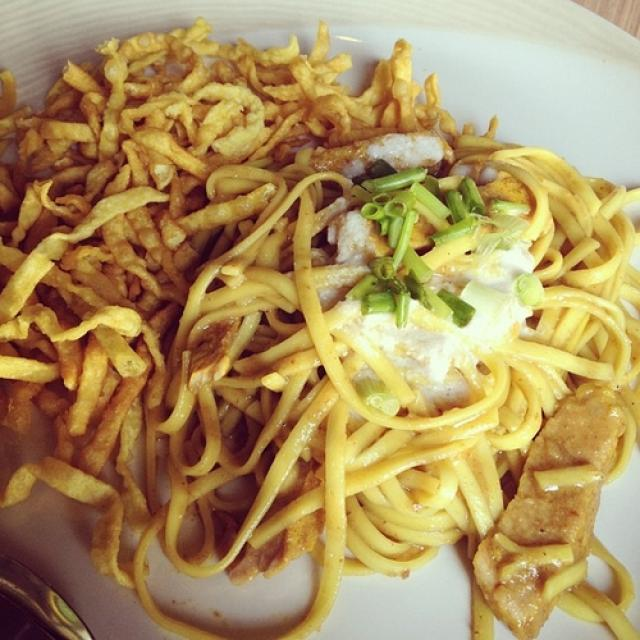面条主食: (25, 28, 616, 602)
